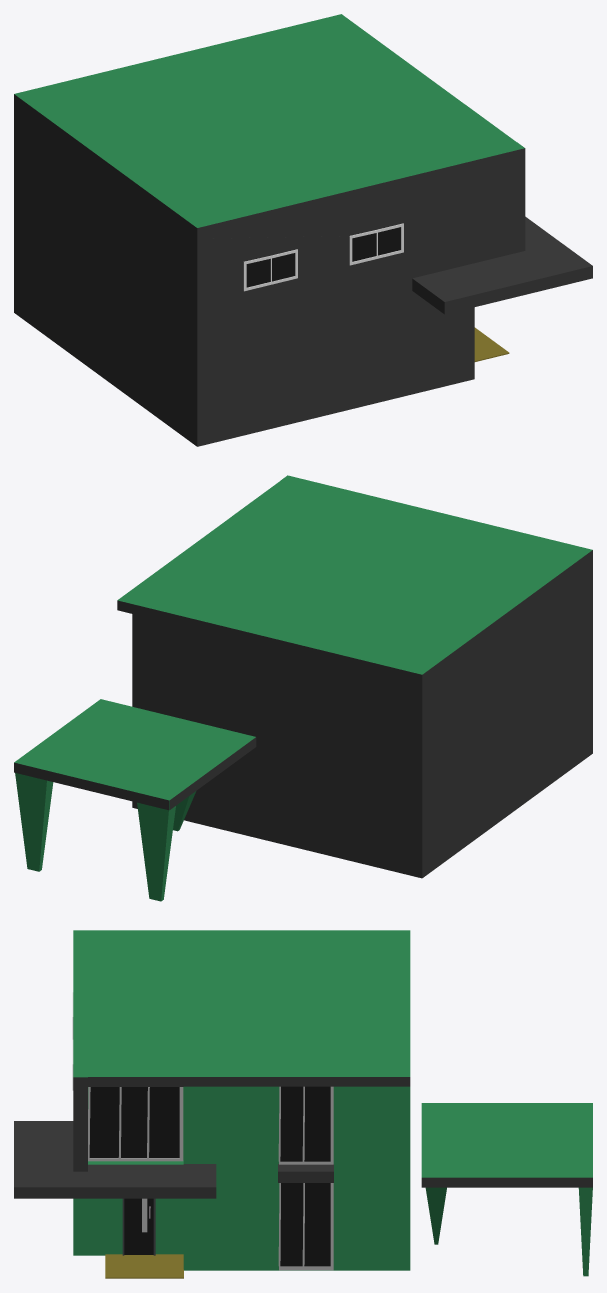
Rendered from Building_House4_Green.fbx.
3 renders of one model, top to bottom at view 1: azimuth 30°, elevation 25°; view 2: azimuth 150°, elevation 25°; view 3: azimuth 270°, elevation 25°, orthographic. The views are drawn at different scales.
Parts seen in each view (by area): view 1: Cube, Plane; view 2: Cube, Plane.001; view 3: Cube, Plane.001, Cube.002, Cube.004, Cube.003, Cube.001, Plane.
Boxes of the visible parts, x1,y1,x2,y2 form: Cube: (14, 14, 592, 446); Plane: (474, 327, 509, 361); Cube: (117, 475, 592, 878); Plane.001: (14, 699, 256, 901); Cube: (14, 930, 410, 1270); Plane.001: (421, 1103, 592, 1276); Cube.002: (88, 1087, 183, 1161); Cube.004: (278, 1183, 333, 1270); Cube.003: (278, 1086, 333, 1164); Cube.001: (122, 1198, 155, 1255); Plane: (105, 1254, 183, 1278).
Bounding box in the file's own units: 1224 × 704 × 1839.
